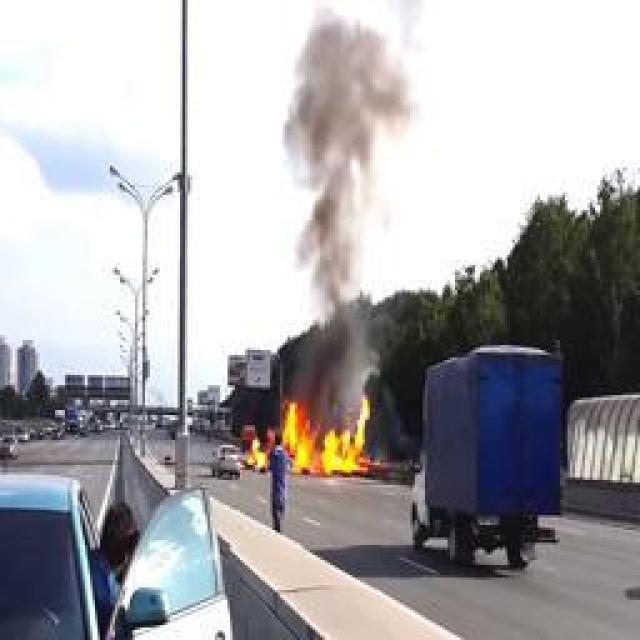Fire: (246, 396, 372, 474)
